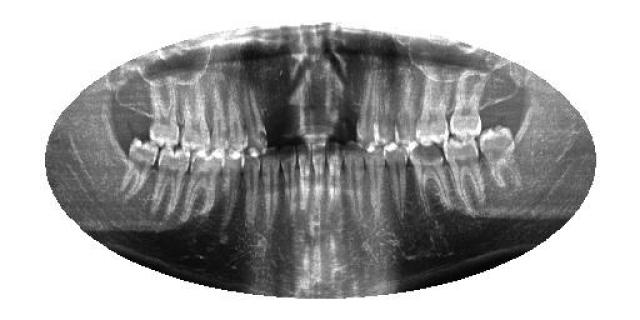Cavity: (406, 144, 452, 215)
